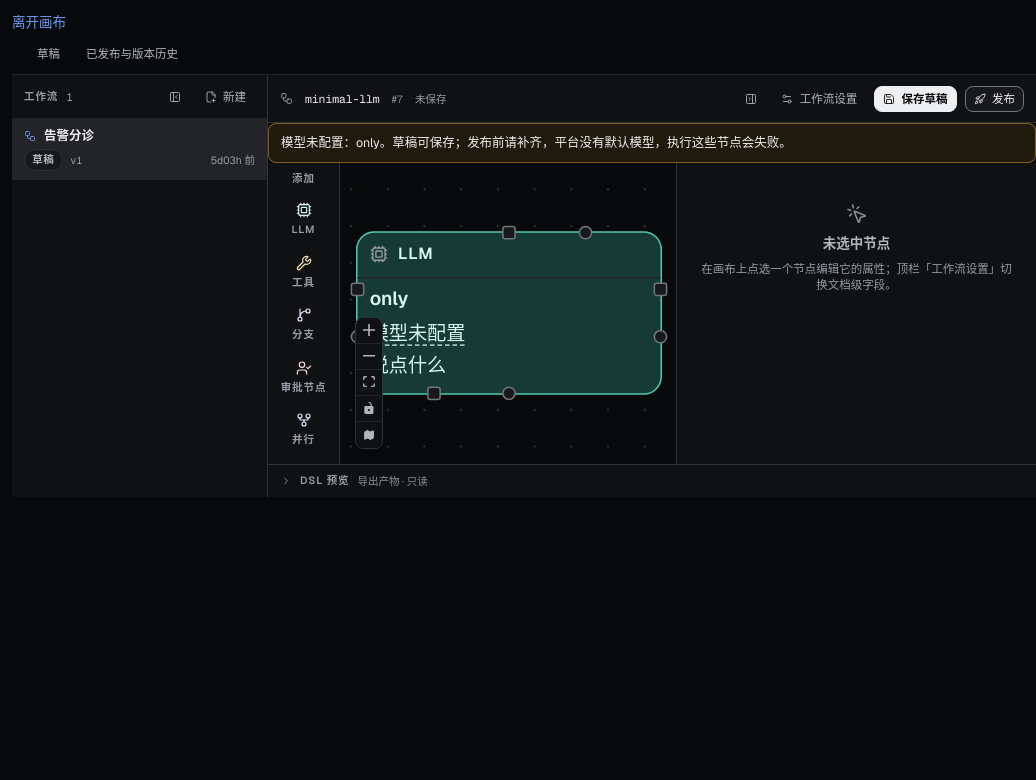
Test: WorkflowsRoute(发布成功反馈,F04) › 发布失败:编辑器不卸载,走 issues 面,成功条不出现
Expected: the element with test id "editor" is shown, left=268, top=75, right=1035, bottom=497
Click the button with test id "editor-publish".
click(994, 99)  # box left=965, top=86, right=1024, bottom=112
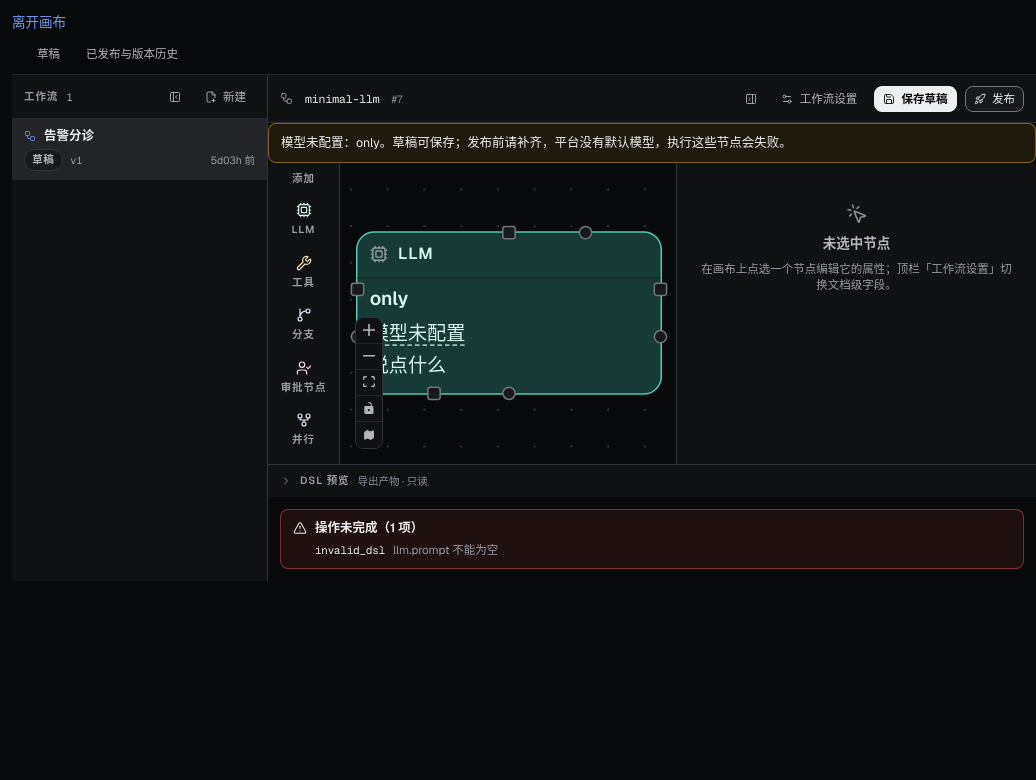
Expected: the element with test id "editor" is shown, left=268, top=75, right=1035, bottom=497
Expected: the message "操作未完成（1 项） invalid_dsl llm.prompt 不能为空" is shown, left=280, top=509, right=1024, bottom=568
